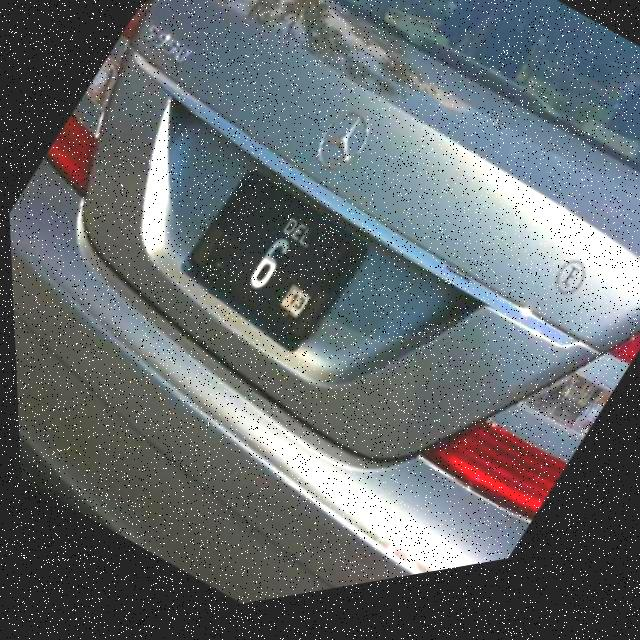license_plate: (163, 157, 376, 386)
